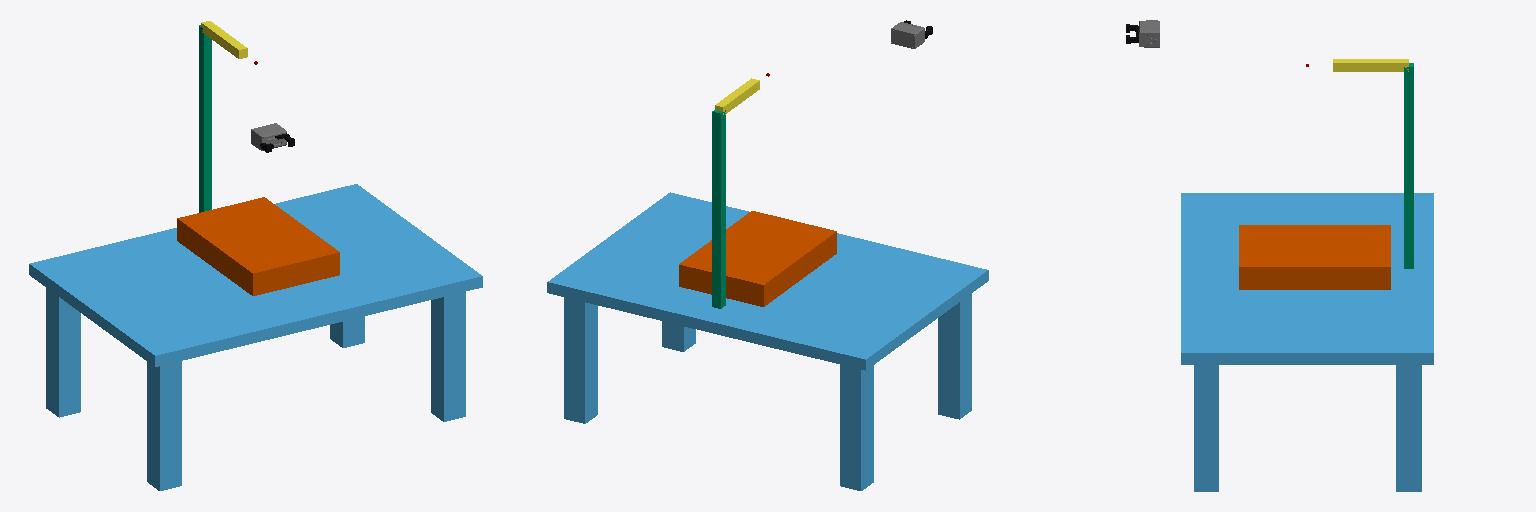
--- What the picture shows (computed from the rendered views, not written in the file) ---
Views: 3 orthographic renders of the robot side by side, from view 1: azimuth 30°, elevation 25°; view 2: azimuth 150°, elevation 25°; view 3: azimuth 270°, elevation 25°.
Model robot with 19 links and 18 joints (6 revolute, 2 prismatic, 10 fixed), rooted at world, posed all joints at 0.
Links seen in each view (by area): view 1: base_link_table, base_link_surface, base_link_camera_stand, camera_holder, gripper_body; view 2: base_link_table, base_link_surface, base_link_camera_stand, gripper_body, camera_holder; view 3: base_link_table, base_link_surface, base_link_camera_stand, camera_holder, gripper_body.
Boxes of the visible links, x1,y1,x2,y2 form: base_link_table: (29, 184, 482, 490); base_link_surface: (177, 197, 339, 295); base_link_camera_stand: (199, 25, 211, 212); camera_holder: (201, 21, 247, 58); gripper_body: (251, 123, 286, 150); base_link_table: (547, 192, 988, 490); base_link_surface: (679, 211, 836, 306); base_link_camera_stand: (712, 110, 725, 308); gripper_body: (891, 22, 924, 48); camera_holder: (715, 78, 759, 114); base_link_table: (1181, 193, 1433, 491); base_link_surface: (1239, 225, 1390, 289); base_link_camera_stand: (1404, 63, 1413, 268); camera_holder: (1333, 59, 1408, 71); gripper_body: (1139, 20, 1159, 47).
Bounding box of the posed robot: 1.5 × 1.22 × 1.56 m (x, y, z).
10 mesh visuals loaded from 11 distinct referenced files (3 Collada DAE, 1 OBJ); not drawn: 7 (reference not matched to a file when rendering).

robot.urdf — robot:
<?xml version="1.0" ?>
<!-- =================================================================================== -->
<!-- |    This document was autogenerated by xacro from [local-path]/local_workspaces/summer_school_ws/src/DRIMS_volterra/drims_dice_demo/xacro/robot_arm.urdf.xacro | -->
<!-- |    EDITING THIS FILE BY HAND IS NOT RECOMMENDED                                 | -->
<!-- =================================================================================== -->
<robot name="robot">
    <!-- <xacro:arg name="gripper_interface" default="hardware_interface/PositionJointInterface" /> -->
    <material name="Black">
        <color rgba="0.0 0.0 0.0 1.0" />
    </material>
    <material name="Blue">
        <color rgba="0.0 0.0 0.8 1.0" />
    </material>
    <material name="Green">
        <color rgba="0.0 0.8 0.0 1.0" />
    </material>
    <material name="Grey">
        <color rgba="0.5 0.5 0.5 1.0" />
    </material>
    <material name="Light_Grey">
        <color rgba="0.8 0.8 0.8 1.0" />
    </material>
    <material name="Ivory">
        <color rgba="1.0 1.0 0.94 1.0" />
    </material>
    <material name="Orange">
        <color rgba="1.0 0.4235294117647059 0.0392156862745098 1.0" />
    </material>
    <material name="Brown">
        <color rgba="0.8705882352941177 0.8117647058823529 0.7647058823529411 1.0" />
    </material>
    <material name="Red">
        <color rgba="0.8 0.0 0.0 1.0" />
    </material>
    <material name="White">
        <color rgba="1.0 1.0 1.0 1.0" />
    </material>
    <gazebo reference="base_link_table">
        <mu1>0.2</mu1>
        <mu2>0.1</mu2>
        <plugin name="gazebo_ros_control" filename="libgazebo_ros_control.so">
            <robotNamespace>/</robotNamespace>
        </plugin>
    </gazebo>
    <!-- 72 52 2 -->
    <!-- GoFa color -->
    <material name="gofa_color">
        <color rgba="0.792156862745098 0.819607843137255 0.933333333333333 1" />
    </material>
    <!-- World fixed joint -->
    <link name="world" />
    <!-- <material name="yellow">
            <color rgba="255.0 255.0 0.0 1"/>
        </material> -->
    <joint name="joint_table_robot" type="fixed">
        <origin rpy="0 0 0" xyz="0 0 0" />
        <parent link="world" />
        <child link="base_link_table" />
    </joint>
    <gazebo reference="base_link_table">
        <material>Gazebo/Grey</material>
    </gazebo>
    <link name="base_link_table">
        <contact>
            <lateral_friction value="1.0" />
        </contact>
        <inertial>
            <origin rpy="0 0 0" xyz="0 0 0" />
            <mass value=".0" />
            <inertia ixx="1" ixy="0" ixz="0" iyy="1" iyz="0" izz="1" />
        </inertial>
        <visual>
            <origin rpy="0 0 0" xyz="0 0 0.6" />
            <geometry>
                <mesh filename="package://drims_dice_demo/meshes/Extra/table.obj" scale="1.5 1 0.05" />
            </geometry>
            <!-- <material name="Gazebo/Yellow"/> -->
        </visual>
        <collision>
            <origin rpy="0 0 0" xyz="0 0 0.6" />
            <geometry>
                <mesh filename="package://drims_dice_demo/meshes/Extra/table.obj" scale="1.5 1 0.05" />
            </geometry>
            <!-- <material name="Gazebo/Yellow"/> -->
        </collision>
        <!-- <collision>
                <origin rpy="0 0 0" xyz="0 0 0.6"/>
                <geometry>
                    <box size="1.5 1 0.05"/>
                </geometry>
            </collision> -->
        <visual>
            <origin rpy="0 0 0" xyz="-0.65 -0.4 0.29" />
            <geometry>
                <mesh filename="package://drims_dice_demo/meshes/Extra/table.obj" scale="0.1 0.1 0.58" />
            </geometry>
            <!-- <material name="white">
                    <color rgba="1 1 1 1"/>
                </material>	  -->
        </visual>
        <visual>
            <origin rpy="0 0 0" xyz="-0.65 0.4 0.29" />
            <geometry>
                <mesh filename="package://drims_dice_demo/meshes/Extra/table.obj" scale="0.1 0.1 0.58" />
            </geometry>
            <!-- <material name="white">
                    <color rgba="1 1 1 1"/>
                </material>	  -->
        </visual>
        <visual>
            <origin rpy="0 0 0" xyz="0.65 -0.4 0.29" />
            <geometry>
                <mesh filename="package://drims_dice_demo/meshes/Extra/table.obj" scale="0.1 0.1 0.58" />
            </geometry>
            <!-- <material name="white">
                    <color rgba="1 1 1 1"/>
                </material>	  -->
        </visual>
        <visual>
            <origin rpy="0 0 0" xyz="0.65 0.4 0.29" />
            <geometry>
                <mesh filename="package://drims_dice_demo/meshes/Extra/table.obj" scale="0.1 0.1 0.58" />
            </geometry>
        </visual>
    </link>
    <joint name="joint_camera_stand_robot" type="fixed">
        <origin rpy="0 0 0" xyz="0.0 0.4 0.65" />
        <parent link="base_link_table" />
        <child link="base_link_camera_stand" />
    </joint>
    <link name="base_link_camera_stand">
        <inertial>
            <origin rpy="0 0 0" xyz="0 0 0" />
            <mass value="1.0" />
            <inertia ixx="1" ixy="0" ixz="0" iyy="1" iyz="0" izz="1" />
        </inertial>
        <visual>
            <origin rpy="0 0 0" xyz="0 0 0.44" />
            <geometry>
                <box size="0.04 0.04 0.88" />
            </geometry>
        </visual>
        <collision>
            <origin rpy="0 0 0" xyz="0 0 0.44" />
            <geometry>
                <box size="0.04 0.04 0.88" />
            </geometry>
        </collision>
    </link>
    <link name="camera_holder">
        <inertial>
            <origin rpy="0 0 0" xyz="0 0 0" />
            <mass value="1.0" />
            <inertia ixx="1" ixy="0" ixz="0" iyy="1" iyz="0" izz="1" />
        </inertial>
        <visual>
            <origin rpy="0 0 0" xyz="0 0 0.15" />
            <geometry>
                <box size="0.04 0.04 0.3" />
            </geometry>
        </visual>
        <collision>
            <origin rpy="0 0 0" xyz="0 0 0.15" />
            <geometry>
                <box size="0.1 0.1 0.3" />
            </geometry>
        </collision>
    </link>
    <joint name="joint_camera_holder" type="fixed">
        <origin rpy="1.5707963267948966 -1.5707963267948966 0" xyz="0.0 0.0 0.88" />
        <parent link="base_link_camera_stand" />
        <child link="camera_holder" />
    </joint>
    <link name="ext_camera_link">
        <visual>
            <origin rpy="0 0 0" xyz="0 0 0" />
            <geometry>
                <box size="0.01 0.01 0.01" />
            </geometry>
            <material name="Red" />
        </visual>
        <inertial>
            <mass value="1e-5" />
            <origin rpy="0 0 0" xyz="0 0 0" />
            <inertia ixx="1e-6" ixy="0" ixz="0" iyy="1e-6" iyz="0" izz="1e-6" />
        </inertial>
    </link>
    <joint name="joint_camera_link" type="fixed">
        <origin rpy="-1.5707963267948966 0 -3.14 " xyz="0.0 0.0 0.4" />
        <parent link="camera_holder" />
        <child link="ext_camera_link" />
    </joint>
    <gazebo reference="ext_camera_link">
        <sensor name="camera1" type="camera">
            <update_rate>5.0</update_rate>
            <camera name="head">
                <horizontal_fov>1.01</horizontal_fov>
                <image>
                    <width>1280</width>
                    <height>720</height>
                    <format>R8G8B8</format>
                </image>
                <clip>
                    <near>0.02</near>
                    <far>300</far>
                </clip>
                <noise>
                    <type>gaussian</type>
                    <!-- Noise is sampled independently per pixel on each frame.
                        That pixel's noise value is added to each of its color
                        channels, which at that point lie in the range [0,1]. -->
                    <mean>0.0</mean>
                    <stddev>0.007</stddev>
                </noise>
            </camera>
            <plugin filename="libgazebo_ros_camera.so" name="camera_controller">
                <alwaysOn>true</alwaysOn>
                <updateRate>5.0</updateRate>
                <cameraName>camera</cameraName>
                <imageTopicName>/oak/rgb/image_raw</imageTopicName>
                <cameraInfoTopicName>camera_info</cameraInfoTopicName>
                <frameName>ext_camera_link</frameName>
                <!-- <hackBaseline>0.07</hackBaseline> -->
                <distortionK1>0.000001</distortionK1>
                <distortionK2>0.000001</distortionK2>
                <distortionK3>0.000001</distortionK3>
                <distortionT1>0.000001</distortionT1>
                <distortionT2>0.000001</distortionT2>
            </plugin>
        </sensor>
    </gazebo>
    <joint name="joint_surface_robot" type="fixed">
        <origin rpy="0 0 0" xyz="-0.03 0.33 0.08" />
        <parent link="gofa_base_link" />
        <child link="base_link_surface" />
    </joint>
    <gazebo reference="base_link_surface">
        <material>Gazebo/Green</material>
    </gazebo>
    <link name="base_link_surface">
        <inertial>
            <origin rpy="0 0 0" xyz="0 0 0" />
            <mass value="1.0" />
            <inertia ixx="1" ixy="0" ixz="0" iyy="1" iyz="0" izz="1" />
        </inertial>
        <visual>
            <origin rpy="0 0 0" xyz="0 0 0" />
            <geometry>
                <box size="0.6 0.4 0.1" />
            </geometry>
        </visual>
        <collision>
            <origin rpy="0 0 0" xyz="0 0 0" />
            <geometry>
                <box size="0.6 0.4 0.1" />
            </geometry>
        </collision>
    </link>
    <!-- Choose between gofa and yumi_single_arm -->
    <!-- Base -->
    <joint name="base_link_table_to_gofa_base_link" type="fixed">
        <origin rpy="0 0 -1.57" xyz="-0.3 0 0.627" />
        <parent link="base_link_table" />
        <child link="gofa_base_link" />
    </joint>
    <link name="gofa_base_link">
        <inertial>
            <origin rpy="0 0 0" xyz="-0.0012013793465437 -0.000175191786981708 0.0862146007385352" />
            <mass value="3.50083457958494" />
            <inertia ixx="0.0153015257917955" ixy="-6.40155032892694E-05" ixz="-0.000276708687772683" iyy="0.0159333503953857" iyz="-3.98029144780725E-05" izz="0.0112162302268266" />
        </inertial>
        <visual>
            <origin rpy="0 0 0" xyz="0 0 0" />
            <geometry>
                <mesh filename="package://omnicore_description/meshes/Gofa/gofa_base_link.STL" />
            </geometry>
            <material name="gofa_color" />
        </visual>
        <collision>
            <origin rpy="0 0 0" xyz="0 0 0" />
            <geometry>
                <mesh filename="package://omnicore_description/meshes/Gofa/gofa_base_link.STL" />
            </geometry>
        </collision>
    </link>
    <!-- Link 1 -->
    <link name="L1">
        <inertial>
            <origin rpy="0 0 0" xyz="2.08682453325091E-06 0.0103608399967513 0.0705307203199506" />
            <mass value="2.76743491139404" />
            <inertia ixx="0.0115158625894577" ixy="6.37197693598838E-08" ixz="5.98954393680154E-09" iyy="0.006494848329231" iyz="-0.000196668400316843" izz="0.0109446835358581" />
        </inertial>
        <visual>
            <origin rpy="0 0 0" xyz="0 0 0" />
            <geometry>
                <mesh filename="package://omnicore_description/meshes/Gofa/L1.STL" />
            </geometry>
            <material name="gofa_color" />
        </visual>
        <collision>
            <origin rpy="0 0 0" xyz="0 0 0" />
            <geometry>
                <mesh filename="package://omnicore_description/meshes/Gofa/L1.STL" />
            </geometry>
        </collision>
    </link>
    <joint name="J1" type="revolute">
        <origin rpy="0 0 0" xyz="0 0 0.1875" />
        <parent link="gofa_base_link" />
        <child link="L1" />
        <axis xyz="0 0 1" />
        <limit effort="300" lower="-3.141592653589793" upper="3.141592653589793" velocity="2.181661564992912" />
        <dynamics damping="0.5" />
    </joint>
    <!-- Link2 -->
    <link name="L2">
        <inertial>
            <origin rpy="0 0 0" xyz="1.34018352211628E-06 -0.0500118376116071 0.222001399322246" />
            <mass value="4.28904168670464" />
            <inertia ixx="0.130524729873898" ixy="1.31811857134115E-07" ixz="1.99022457670482E-06" iyy="0.133278449324229" iyz="-4.48622200366709E-07" izz="0.00669457974697178" />
        </inertial>
        <visual>
            <origin rpy="0 0 0" xyz="0 0 0" />
            <geometry>
                <mesh filename="package://omnicore_description/meshes/Gofa/L2.STL" />
            </geometry>
            <material name="gofa_color" />
        </visual>
        <collision>
            <origin rpy="0 0 0" xyz="0 0 0" />
            <geometry>
                <mesh filename="package://omnicore_description/meshes/Gofa/L2.STL" />
            </geometry>
        </collision>
    </link>
    <joint name="J2" type="revolute">
        <origin rpy="0 0 0" xyz="0 -0.085 0.0775" />
        <parent link="L1" />
        <child link="L2" />
        <axis xyz="0 1 0" />
        <limit effort="300" lower="-3.141592653589793" upper="3.141592653589793" velocity="2.181661564992912" />
        <dynamics damping="0.5" />
    </joint>
    <!-- Link3 -->
    <link name="L3">
        <inertial>
            <origin rpy="0 0 0" xyz="0.0128129281453599 0.0944171780907046 0.0247427540642403" />
            <mass value="3.38333107992875" />
            <inertia ixx="0.0175626138728642" ixy="0.000364866179108744" ixz="-0.00318670290285352" iyy="0.0140230068919562" iyz="0.000704668055158407" izz="0.013275205067567" />
        </inertial>
        <visual>
            <origin rpy="0 0 0" xyz="0 0 0" />
            <geometry>
                <mesh filename="package://omnicore_description/meshes/Gofa/L3.STL" />
            </geometry>
            <material name="gofa_color" />
        </visual>
        <collision>
            <origin rpy="0 0 0" xyz="0 0 0" />
            <geometry>
                <mesh filename="package://omnicore_description/meshes/Gofa/L3.STL" />
            </geometry>
        </collision>
    </link>
    <joint name="J3" type="revolute">
        <origin rpy="0 0 0" xyz="0 -0.00100000000000007 0.444" />
        <parent link="L2" />
        <child link="L3" />
        <axis xyz="0 1 0" />
        <limit effort="300" lower="-3.9269908169872414" upper="1.4835298641951802" velocity="2.443460952792061" />
        <dynamics damping="0.5" />
    </joint>
    <!-- Link4 -->
    <link name="L4">
        <inertial>
            <origin rpy="0 0 0" xyz="0.160558561602322 0.041976811408979 -2.36623354021859E-07" />
            <mass value="2.77857535641324" />
            <inertia ixx="0.00881683095901354" ixy="-0.010746260580237" ixz="1.2899930119841E-07" iyy="0.0340754175571832" iyz="3.96362791626429E-08" izz="0.0389358932156922" />
        </inertial>
        <visual>
            <origin rpy="0 0 0" xyz="0 0 0" />
            <geometry>
                <mesh filename="package://omnicore_description/meshes/Gofa/L4.STL" />
            </geometry>
            <material name="gofa_color" />
        </visual>
        <collision>
            <origin rpy="0 0 0" xyz="0 0 0" />
            <geometry>
                <mesh filename="package://omnicore_description/meshes/Gofa/L4.STL" />
            </geometry>
        </collision>
    </link>
    <joint name="J4" type="revolute">
        <origin rpy="0 0 0" xyz="0.096 0.0860000000000001 0.11" />
        <parent link="L3" />
        <child link="L4" />
        <axis xyz="1 0 0" />
        <limit effort="300" lower="-3.141592653589793" upper="3.141592653589793" velocity="3.490658503988659" />
        <dynamics damping="0.5" />
    </joint>
    <!-- Link5 -->
    <link name="L5">
        <inertial>
            <origin rpy="0 0 0" xyz="-0.0147152361879962 -0.0785646469392633 0.0427558021601431" />
            <mass value="3.01105814739001" />
            <inertia ixx="0.0114597336686444" ixy="0.000180094704361231" ixz="0.00165207280226761" iyy="0.013561904467501" iyz="-0.000525272443978826" izz="0.0108480119549914" />
        </inertial>
        <visual>
            <origin rpy="0 0 0" xyz="0 0 0" />
            <geometry>
                <mesh filename="package://omnicore_description/meshes/Gofa/L5.STL" />
            </geometry>
            <material name="gofa_color" />
        </visual>
        <collision>
            <origin rpy="0 0 0" xyz="0 0 0" />
            <geometry>
                <mesh filename="package://omnicore_description/meshes/Gofa/L5.STL" />
            </geometry>
        </collision>
    </link>
    <joint name="J5" type="revolute">
        <origin rpy="0 0 0" xyz="0.374 0.0744999999999998 0" />
        <parent link="L4" />
        <child link="L5" />
        <axis xyz="0 1 0" />
        <limit effort="300" lower="-3.141592653589793" upper="3.141592653589793" velocity="3.490658503988659" />
        <dynamics damping="0.5" />
    </joint>
    <!-- Link6 -->
    <link name="L6">
        <inertial>
            <origin rpy="0 0 0" xyz="0.0137506852604966 0.000239804131398652 -0.000341962798940165" />
            <mass value="0.146500988015653" />
            <inertia ixx="0.000128977630055306" ixy="-8.7622752508613E-08" ixz="1.18851551870012E-07" iyy="7.61118177829087E-05" iyz="-6.49821554399679E-07" izz="7.65022909768016E-05" />
        </inertial>
        <visual>
            <origin rpy="0 0 0" xyz="0 0 0" />
            <geometry>
                <mesh filename="package://omnicore_description/meshes/Gofa/L6.STL" />
            </geometry>
            <material name="gofa_color" />
        </visual>
        <collision>
            <origin rpy="0 0 0" xyz="0 0 0" />
            <geometry>
                <mesh filename="package://omnicore_description/meshes/Gofa/L6.STL" />
            </geometry>
        </collision>
    </link>
    <joint name="J6" type="revolute">
        <origin rpy="0 0 0" xyz="0.0679999999999995 -0.0744999999999998 0.0800000000000003" />
        <parent link="L5" />
        <child link="L6" />
        <axis xyz="1 0 0" />
        <limit effort="300" lower="-4.71238898038469" upper="4.71238898038469" velocity="3.490658503988659" />
        <dynamics damping="0.5" />
    </joint>
    <!-- Flange -->
    <link name="flange" />
    <joint name="L6_to_flange" type="fixed">
        <origin rpy="0 1.5707963267948966 0" xyz="0.033599981 0 0" />
        <parent link="L6" />
        <child link="flange" />
    </joint>
    <transmission name="gofa_tran_1">
        <type>transmission_interface/SimpleTransmission</type>
        <joint name="J1">
            <hardwareInterface>hardware_interface/PositionJointInterface</hardwareInterface>
        </joint>
        <actuator name="gofa_motor_1">
            <hardwareInterface>hardware_interface/PositionJointInterface</hardwareInterface>
            <mechanicalReduction>1</mechanicalReduction>
        </actuator>
    </transmission>
    <transmission name="gofa_tran_2">
        <type>transmission_interface/SimpleTransmission</type>
        <joint name="J2">
            <hardwareInterface>hardware_interface/PositionJointInterface</hardwareInterface>
        </joint>
        <actuator name="gofa_motor_2">
            <hardwareInterface>hardware_interface/PositionJointInterface</hardwareInterface>
            <mechanicalReduction>1</mechanicalReduction>
        </actuator>
    </transmission>
    <transmission name="gofa_tran_3">
        <type>transmission_interface/SimpleTransmission</type>
        <joint name="J3">
            <hardwareInterface>hardware_interface/PositionJointInterface</hardwareInterface>
        </joint>
        <actuator name="gofa_motor_3">
            <hardwareInterface>hardware_interface/PositionJointInterface</hardwareInterface>
            <mechanicalReduction>1</mechanicalReduction>
        </actuator>
    </transmission>
    <transmission name="gofa_tran_4">
        <type>transmission_interface/SimpleTransmission</type>
        <joint name="J4">
            <hardwareInterface>hardware_interface/PositionJointInterface</hardwareInterface>
        </joint>
        <actuator name="gofa_motor_4">
            <hardwareInterface>hardware_interface/PositionJointInterface</hardwareInterface>
            <mechanicalReduction>1</mechanicalReduction>
        </actuator>
    </transmission>
    <transmission name="gofa_tran_5">
        <type>transmission_interface/SimpleTransmission</type>
        <joint name="J5">
            <hardwareInterface>hardware_interface/PositionJointInterface</hardwareInterface>
        </joint>
        <actuator name="gofa_motor_5">
            <hardwareInterface>hardware_interface/PositionJointInterface</hardwareInterface>
            <mechanicalReduction>1</mechanicalReduction>
        </actuator>
    </transmission>
    <transmission name="gofa_tran_6">
        <type>transmission_interface/SimpleTransmission</type>
        <joint name="J6">
            <hardwareInterface>hardware_interface/PositionJointInterface</hardwareInterface>
        </joint>
        <actuator name="gofa_motor_6">
            <hardwareInterface>hardware_interface/PositionJointInterface</hardwareInterface>
            <mechanicalReduction>1</mechanicalReduction>
        </actuator>
    </transmission>
    <!-- Launching each component -->
    <!-- Gripper's main body -->
    <!-- Define a material -->
    <!-- <material name="Black">
    <color rgba="0.1 0.1 0.1 1" />
  </material> -->
    <!-- <material name="Grey">
    <color rgba="0.5 0.5 0.5 1" />
  </material> -->
    <!-- Define a material -->
    <material name="finger_black">
        <color rgba="0.1 0.1 0.1 1" />
    </material>
    <!-- Main gripper body -->
    <link name="gripper_body">
        <visual>
            <origin rpy="0 0 0" xyz="0 0 0" />
            <geometry>
                <mesh filename="package://schunk_description/meshes/egk40/visual/egk40_body.dae" scale="0.001 0.001 0.001" />
            </geometry>
            <material name="Grey" />
        </visual>
        <collision>
            <origin rpy="0 0 0" xyz="0 0 0" />
            <geometry>
                <mesh filename="package://schunk_description/meshes/egk40/collision/egk40_body.stl" scale="0.001 0.001 0.001" />
            </geometry>
        </collision>
        <inertial>
            <origin rpy="0 0 0" xyz="0 0 0" />
            <mass value="1.5" />
            <inertia ixx="1.0" ixy="0.0" ixz="0.0" iyy="1.0" iyz="0.0" izz="1.0" />
        </inertial>
    </link>
    <!-- Finger 1 -->
    <link name="finger1">
        <visual>
            <origin rpy="0 0 0" xyz="0 0 0" />
            <geometry>
                <mesh filename="package://schunk_description/meshes/egk40/visual/slider.dae" scale="0.001 0.001 0.001" />
            </geometry>
            <material name="Black" />
        </visual>
        <collision>
            <origin rpy="0 0 0" xyz="0 0 0" />
            <geometry>
                <mesh filename="package://schunk_description/meshes/egk40/collision/slider.stl" scale="0.001 0.001 0.001" />
            </geometry>
        </collision>
        <inertial>
            <origin rpy="0 0 0" xyz="0 0 0" />
            <mass value="0.3" />
            <inertia ixx="0.1" ixy="0.0" ixz="0.0" iyy="0.1" iyz="0.0" izz="0.1" />
        </inertial>
    </link>
    <!-- Finger 2 -->
    <link name="finger2">
        <visual>
            <origin rpy="0 0 0" xyz="0 0 0" />
            <geometry>
                <mesh filename="package://schunk_description/meshes/egk40/visual/slider.dae" scale="0.001 0.001 0.001" />
            </geometry>
            <material name="Black" />
        </visual>
        <collision>
            <origin rpy="0 0 0" xyz="0 0 0" />
            <geometry>
                <mesh filename="package://schunk_description/meshes/egk40/collision/slider.stl" scale="0.001 0.001 0.001" />
            </geometry>
        </collision>
        <inertial>
            <origin rpy="0 0 0" xyz="0 0 0" />
            <mass value="0.3" />
            <inertia ixx="0.1" ixy="0.0" ixz="0.0" iyy="0.1" iyz="0.0" izz="0.1" />
        </inertial>
    </link>
    <!-- joints: main serial chain -->
    <joint name="finger1_joint" type="prismatic">
        <parent link="gripper_body" />
        <child link="finger1" />
        <origin rpy="0 1.5707963267948966 0" xyz="0.016 0.071 0.02" />
        <limit effort="1000.0" lower="0.0" upper="0.0415" velocity="10.0" />
    </joint>
    <joint name="finger2_joint" type="prismatic">
        <parent link="gripper_body" />
        <child link="finger2" />
        <origin rpy="0 -1.5707963267948966 0" xyz="-0.016 0.071 -0.02" />
        <limit effort="1000.0" lower="0.0" upper="0.0415" velocity="10.0" />
    </joint>
    <!-- Finger link -->
    <link name="leftfinger_body">
        <visual>
            <origin rpy="0 0 0" xyz="0 0 0" />
            <geometry>
                <mesh filename="package://schunk_description/meshes/fingers/visual/flat_finger.dae" scale="0.001 0.001 0.001" />
            </geometry>
            <material name="finger_black" />
        </visual>
        <collision>
            <origin rpy="0 0 0" xyz="0 0 0" />
            <geometry>
                <mesh filename="package://schunk_description/meshes/fingers/collision/flat_finger_raw.stl" scale="0.001 0.001 0.001" />
            </geometry>
        </collision>
        <inertial>
            <origin rpy="0 0 0" xyz="0 0 0" />
            <mass value="0.1" />
            <inertia ixx="0.001" ixy="0.0" ixz="0.0" iyy="0.001" iyz="0.0" izz="0.001" />
        </inertial>
    </link>
    <!-- joints: main serial chain -->
    <joint name="leftfinger_joint" type="fixed">
        <parent link="finger1" />
        <child link="leftfinger_body" />
        <origin rpy="0 0 0" xyz="0.0 0.012 0.0" />
    </joint>
    <gazebo reference="leftfinger_joint">
        <disableFixedJointLumping>true</disableFixedJointLumping>
        <preserveFixedJoint>true</preserveFixedJoint>
    </gazebo>
    <!-- Finger link -->
    <link name="rightfinger_body">
        <visual>
            <origin rpy="0 0 0" xyz="0 0 0" />
            <geometry>
                <mesh filename="package://schunk_description/meshes/fingers/visual/flat_finger.dae" scale="0.001 0.001 0.001" />
            </geometry>
            <material name="finger_black" />
        </visual>
        <collision>
            <origin rpy="0 0 0" xyz="0 0 0" />
            <geometry>
                <mesh filename="package://schunk_description/meshes/fingers/collision/flat_finger_raw.stl" scale="0.001 0.001 0.001" />
            </geometry>
        </collision>
        <inertial>
            <origin rpy="0 0 0" xyz="0 0 0" />
            <mass value="0.1" />
            <inertia ixx="0.001" ixy="0.0" ixz="0.0" iyy="0.001" iyz="0.0" izz="0.001" />
        </inertial>
    </link>
    <!-- joints: main serial chain -->
    <joint name="rightfinger_joint" type="fixed">
        <parent link="finger2" />
        <child link="rightfinger_body" />
        <origin rpy="0 0 0" xyz="0.0 0.012 0.0" />
    </joint>
    <gazebo reference="rightfinger_joint">
        <disableFixedJointLumping>true</disableFixedJointLumping>
        <preserveFixedJoint>true</preserveFixedJoint>
    </gazebo>
    <!-- Joint connecting gripper base (gripper_body) to parent -->
    <joint name="parent_to_gripper" type="fixed">
        <parent link="flange" />
        <child link="gripper_body" />
        <origin rpy="1.5707963267948966 0.0 0.0" xyz="0.0 0.0 0.011" />
    </joint>
    <!-- Add grasp link frame -->
    <!-- <joint name="gripper_body_to_grasp_joint" type="fixed">
      <parent link="${parent}" />
      <child  link="grasp_link" />
      <origin xyz="0.0 0.0 0.13" rpy="0.0 0.0 ${-pi}" />
    </joint>
    
    <link name="grasp_link" /> -->
    <!-- Trasmissions -->
    <transmission name="tran_1">
        <type>transmission_interface/SimpleTransmission</type>
        <joint name="finger1_joint">
            <hardwareInterface>hardware_interface/EffortJointInterface</hardwareInterface>
        </joint>
        <actuator name="motor_1">
            <hardwareInterface>hardware_interface/EffortJointInterface</hardwareInterface>
            <mechanicalReduction>1</mechanicalReduction>
        </actuator>
    </transmission>
    <transmission name="tran_2">
        <type>transmission_interface/SimpleTransmission</type>
        <joint name="finger2_joint">
            <hardwareInterface>hardware_interface/EffortJointInterface</hardwareInterface>
        </joint>
        <actuator name="motor_2">
            <hardwareInterface>hardware_interface/EffortJointInterface</hardwareInterface>
            <mechanicalReduction>1</mechanicalReduction>
        </actuator>
    </transmission>
    <gazebo>
        <!-- <plugin name="ros_control" filename="libgazebo_ros_control.so">
        </plugin> -->
        <!-- It is loaded in the robot_arm.urdf.xacro -->
    </gazebo>
    <!-- Disabling gravity -->
    <gazebo reference="finger1">
        <gravity>0</gravity>
    </gazebo>
    <gazebo reference="finger2">
        <gravity>0</gravity>
    </gazebo>
    <gazebo>
        <plugin filename="libgazebo_grasp_fix.so" name="gazebo_grasp_fix">
            <arm>
                <arm_name>gofa</arm_name>
                <palm_link>finger1</palm_link>
                <gripper_link>leftfinger_body</gripper_link>
                <palm_link>finger2</palm_link>
                <gripper_link>rightfinger_body</gripper_link>
            </arm>
            <forces_angle_tolerance>100</forces_angle_tolerance>
            <update_rate>4</update_rate>
            <grip_count_threshold>4</grip_count_threshold>
            <max_grip_count>8</max_grip_count>
            <release_tolerance>0.005</release_tolerance>
            <disable_collisions_on_attach>false</disable_collisions_on_attach>
            <contact_topic>__default_topic__</contact_topic>
        </plugin>
    </gazebo>
    <gazebo>
        <plugin filename="libgazebo_ros_control.so" name="ros_control" />
    </gazebo>
</robot>
